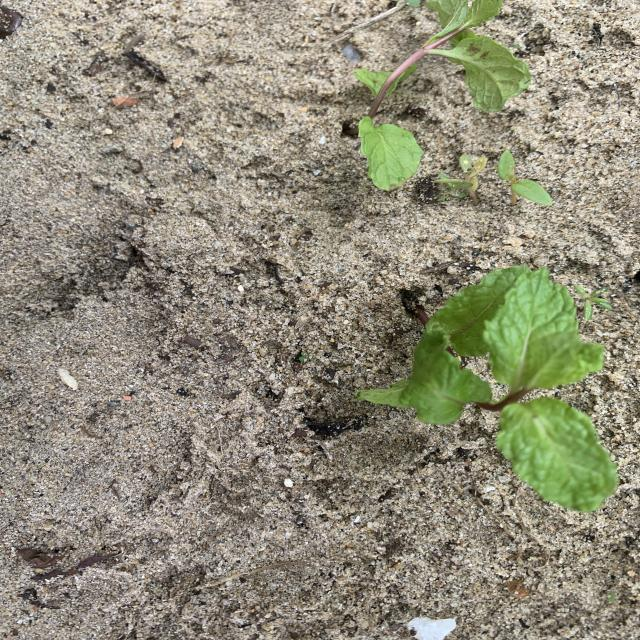crop: (358, 266, 618, 511), (421, 0, 530, 112), (354, 51, 423, 187)
weed: (498, 150, 552, 205), (434, 155, 487, 204), (574, 286, 613, 322)
